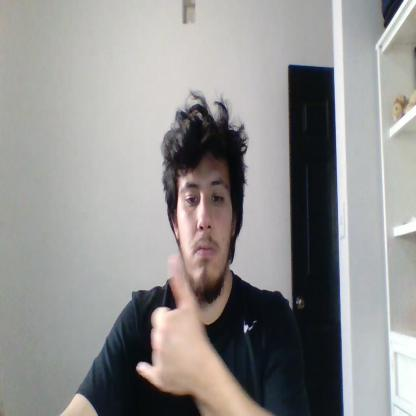Y: (136, 257, 203, 395)
